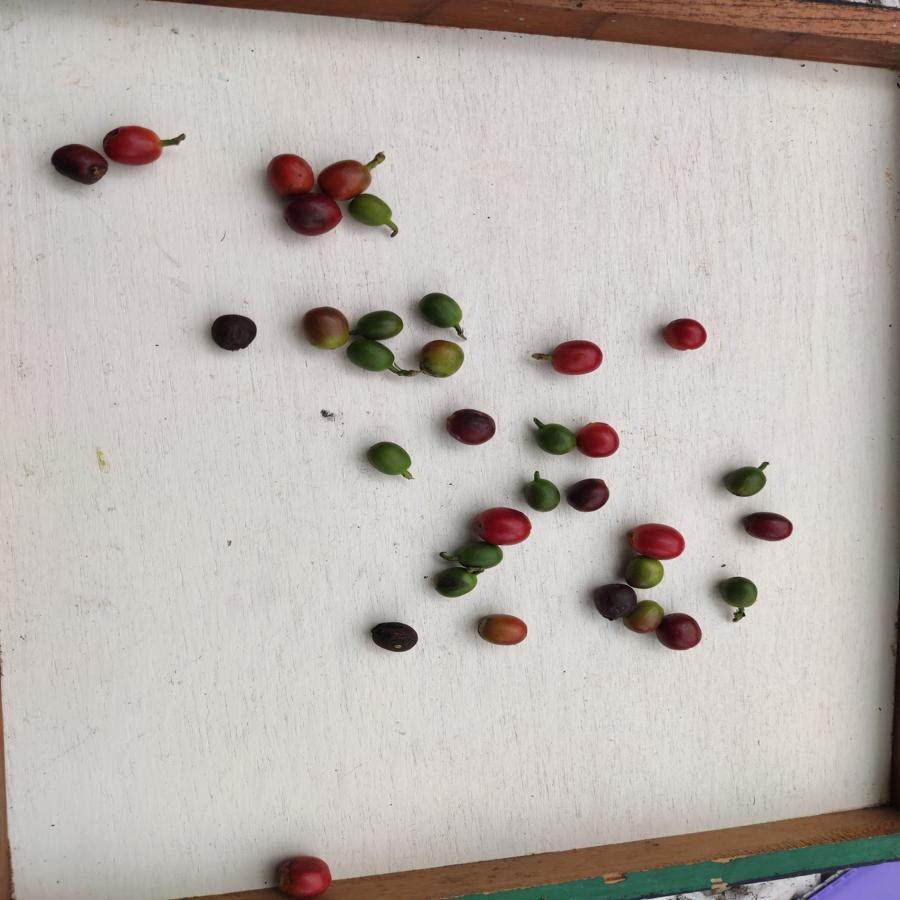Inmaduro: (362, 440, 416, 482), (418, 290, 467, 331), (345, 338, 400, 373), (350, 194, 398, 231), (432, 565, 477, 603), (353, 308, 403, 342), (722, 464, 769, 497), (533, 423, 577, 458), (456, 541, 503, 573), (523, 477, 562, 515), (718, 576, 757, 610)
Maduro: (101, 125, 167, 169), (274, 852, 334, 899), (315, 156, 376, 196), (476, 504, 534, 545), (626, 520, 685, 559), (549, 337, 606, 377), (266, 150, 317, 192), (575, 420, 621, 458), (663, 318, 707, 352)
Pinton: (302, 301, 348, 348), (416, 339, 465, 380), (473, 615, 529, 645), (625, 555, 665, 591), (633, 595, 660, 635)
Sobremaduro: (282, 193, 346, 237), (48, 142, 107, 188), (446, 408, 499, 446), (367, 618, 420, 656), (658, 612, 705, 652), (738, 509, 795, 541), (593, 582, 636, 624), (211, 311, 257, 350), (564, 477, 612, 513)
